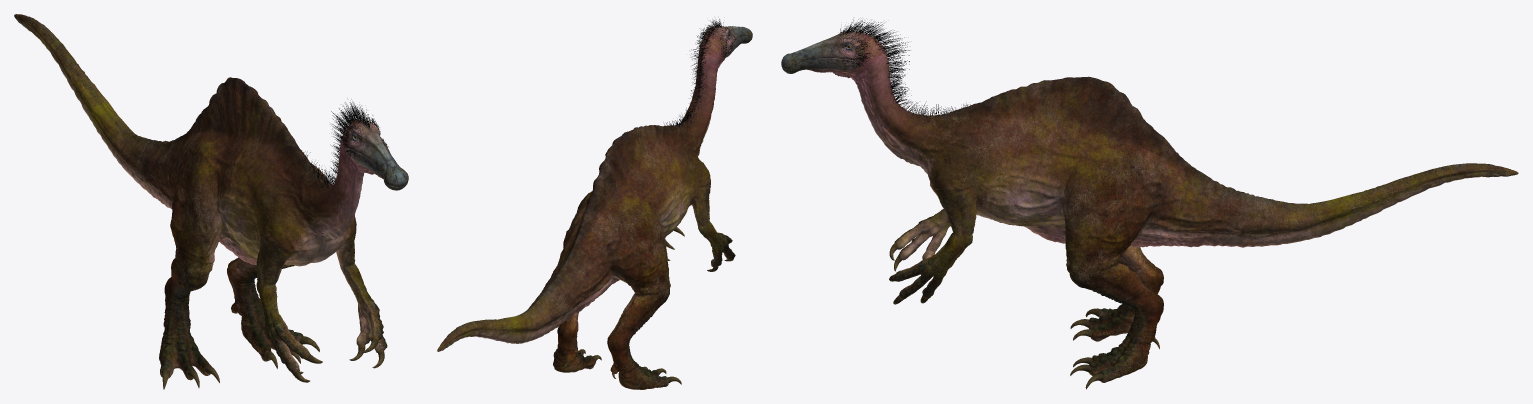
The model's file is deinocheirus.glb.
3 renders of one model, left to right at view 1: azimuth 30°, elevation 25°; view 2: azimuth 150°, elevation 25°; view 3: azimuth 270°, elevation 25°, orthographic. The views are drawn at different scales.
Parts seen in each view (by area): view 1: body_legs_0, body_bodyfront_0, body_bodyback_0, body_tail_0, body_head_0, hiiar_hair_0, claws_claws1_0; view 2: body_legs_0, body_bodyback_0, body_tail_0, body_bodyfront_0, body_head_0, hiiar_hair_0, claws_claws1_0; view 3: body_legs_0, body_bodyback_0, body_tail_0, body_bodyfront_0, body_head_0, hiiar_hair_0, claws_claws1_0.
Part boxes in pixels (x1,y1,x2,y2): body_legs_0: (159,135,387,380); body_bodyfront_0: (242,139,364,266); body_bodyback_0: (168,77,297,264); body_tail_0: (14,14,185,209); body_head_0: (341,119,408,190); hiiar_hair_0: (297,102,388,188); claws_claws1_0: (161,311,384,389); body_legs_0: (553,177,735,389); body_bodyback_0: (560,125,682,298); body_tail_0: (437,243,605,351); body_bodyfront_0: (662,51,720,223); body_head_0: (699,26,752,64); hiiar_hair_0: (664,19,735,130); claws_claws1_0: (556,227,733,384); body_legs_0: (894,144,1163,382); body_bodyback_0: (983,76,1189,247); body_tail_0: (1156,163,1518,247); body_bodyfront_0: (851,49,1010,223); body_head_0: (781,31,883,78); hiiar_hair_0: (831,19,970,117); claws_claws1_0: (889,242,1159,389).
Size of the model in its own units: 1.44 by 3.14 by 6.17.
8 materials, 7 textured.
